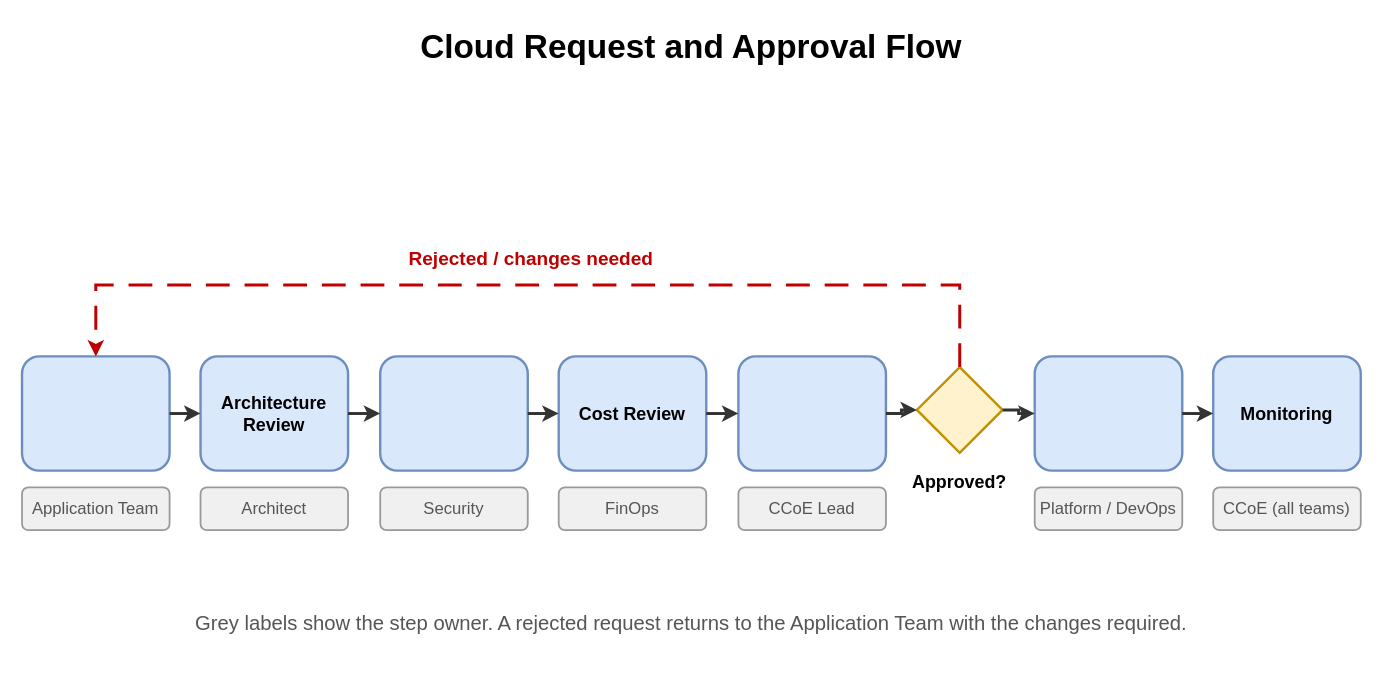
The diagram is 1382 pixels wide and 674 high, and some of its shapes have lost their labels. The shapes that lost their labels are listed below. From the top down, each one's centre as x and y in pixels, then its label:
At point 95,413: "Business Request".
At point 453,413: "Security Review".
At point 812,413: "Approval".
At point 1108,413: "Implementation".
